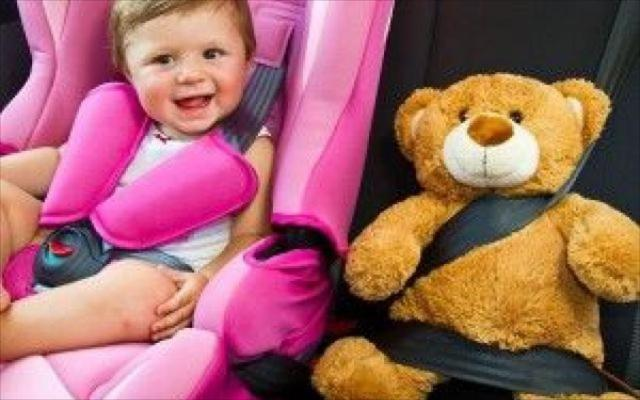SafeDriving: (138, 46, 186, 72), (193, 40, 236, 66)
Seatbelt: (366, 0, 640, 398)
